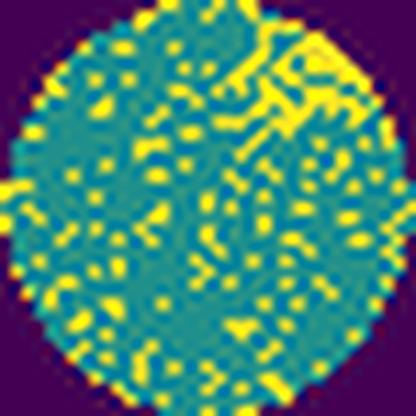Loc: (217, 83, 367, 165), (273, 27, 369, 95)
